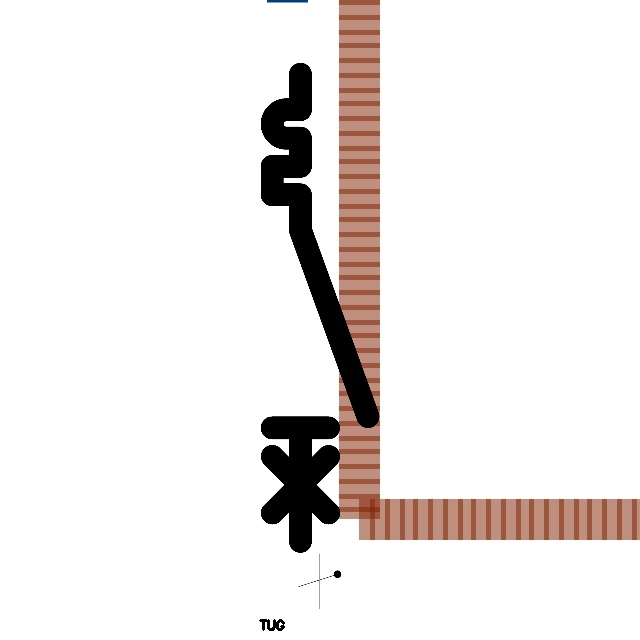interruptor_termomagnetico: (260, 62, 380, 553)
